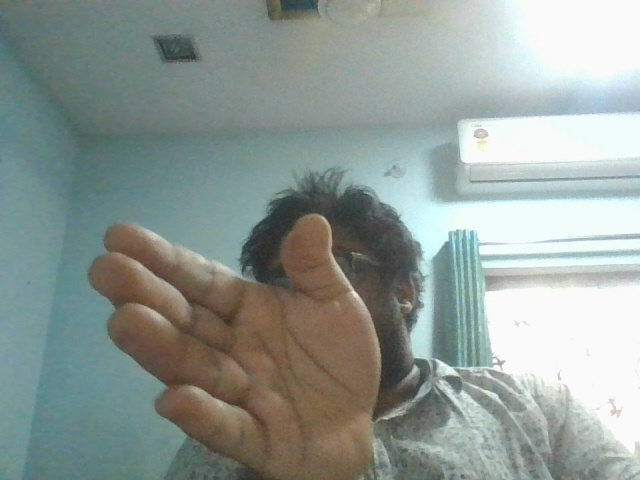RIGHT: (97, 171, 430, 480)
